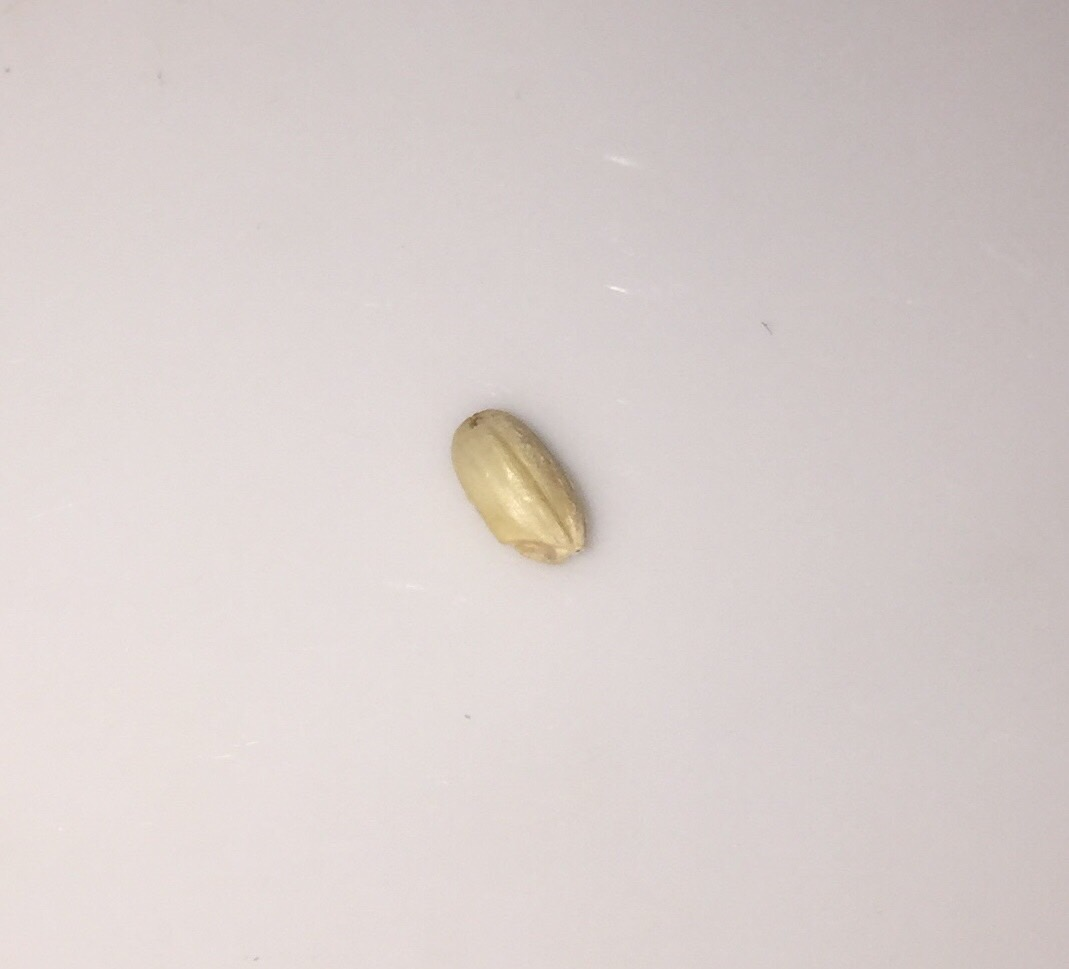Gao Lut Bac: (461, 405, 593, 571)
